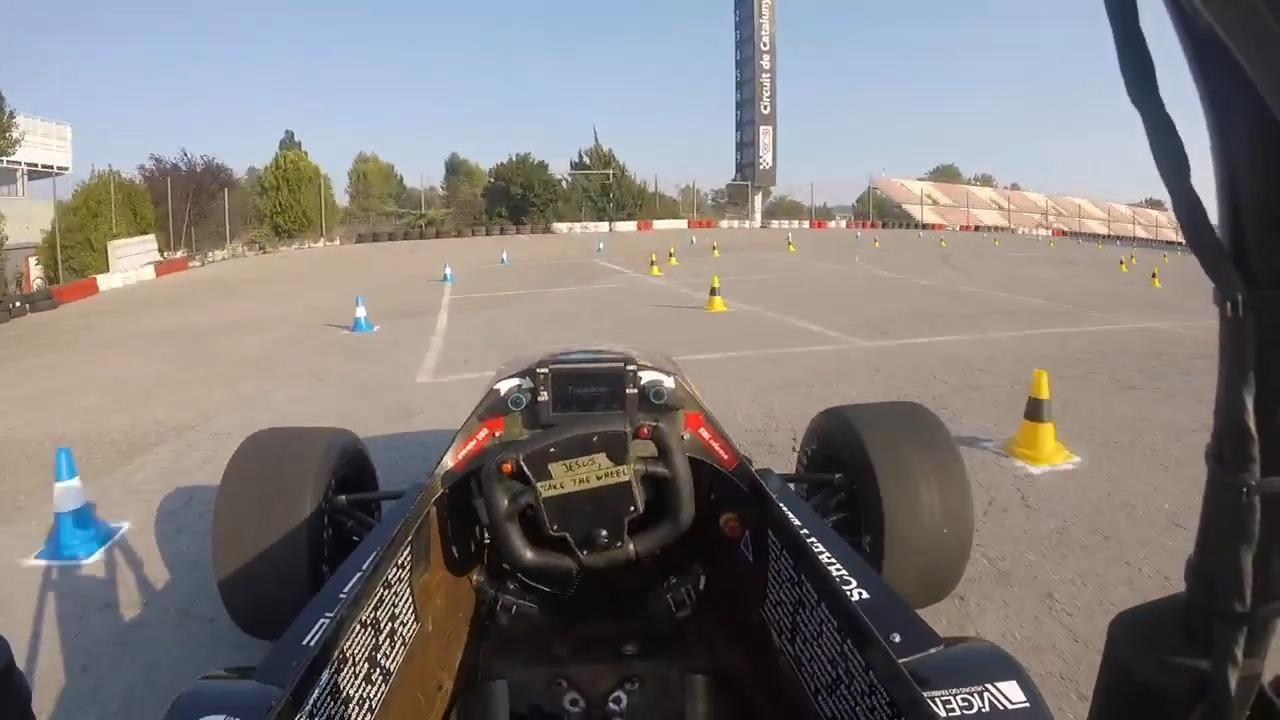blue_cone: (35, 444, 124, 561), (349, 296, 378, 334), (440, 263, 456, 282), (498, 247, 510, 264)
yellow_cone: (999, 367, 1074, 464), (705, 276, 729, 313), (648, 253, 662, 278), (1148, 268, 1163, 289), (666, 247, 680, 267), (709, 241, 722, 259)
